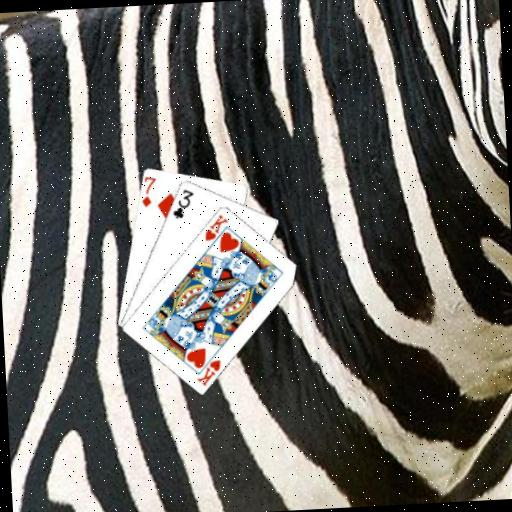3C: (168, 186, 196, 221)
7D: (137, 173, 159, 209)
KH: (193, 356, 224, 387), (201, 211, 231, 243)
